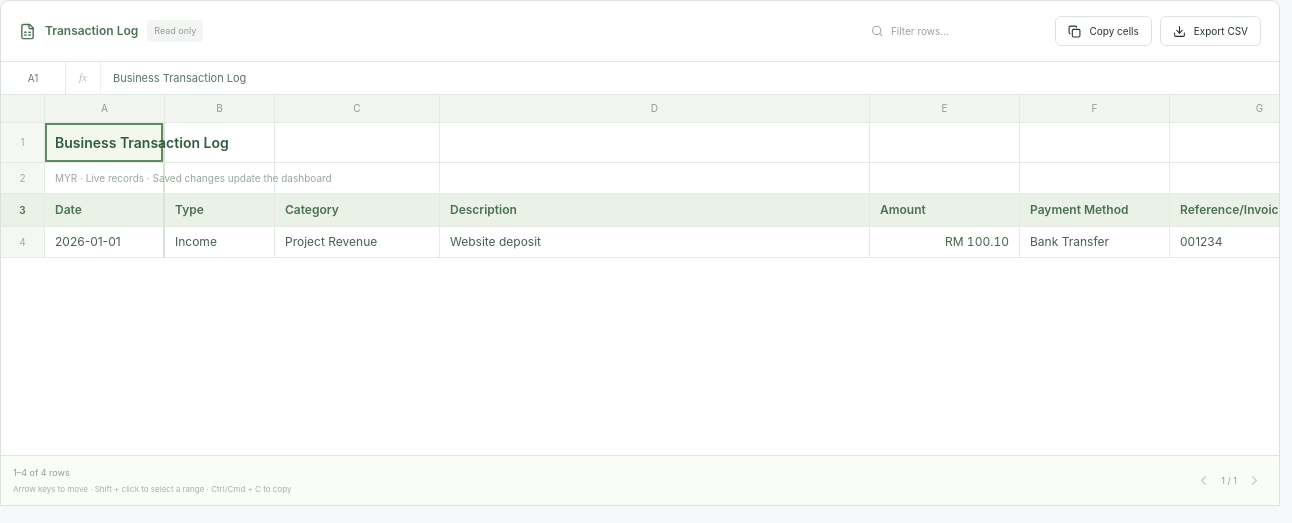
Test: selects cells, shows their full value and navigates with arrow keys
Step 1. Click the cell named "D4:" → click(655, 242), box [440,227,870,258]
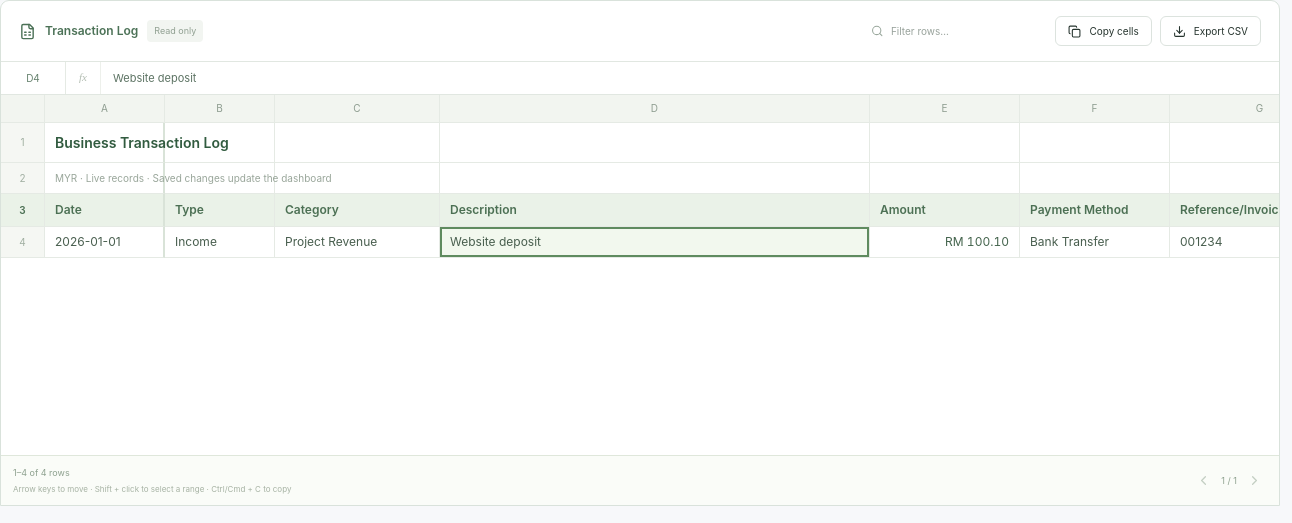
Check: the text named "Selected cell" reads "D4", box [26,72,40,84]
Check: the text named "Selected cell value" reads "Website deposit", box [113,71,196,85]
Step 2. Press ArrowRight in the cell named "D4:", box [440,227,870,258]
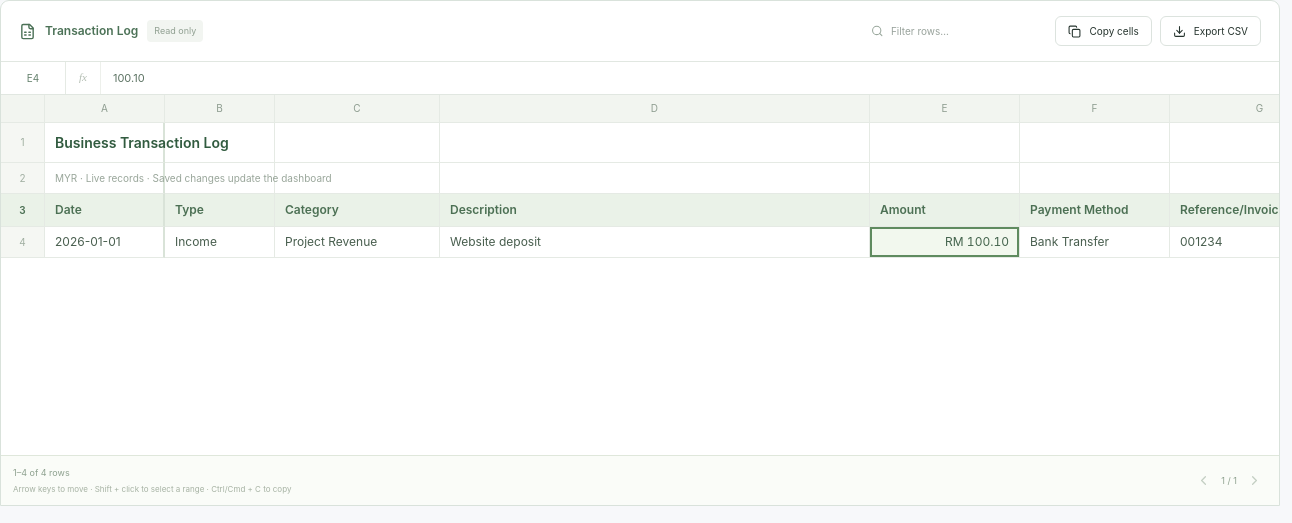
Check: the text named "Selected cell" reads "E4", box [27,72,39,84]
Check: the text named "Selected cell value" reads "100.10", box [113,71,145,85]
